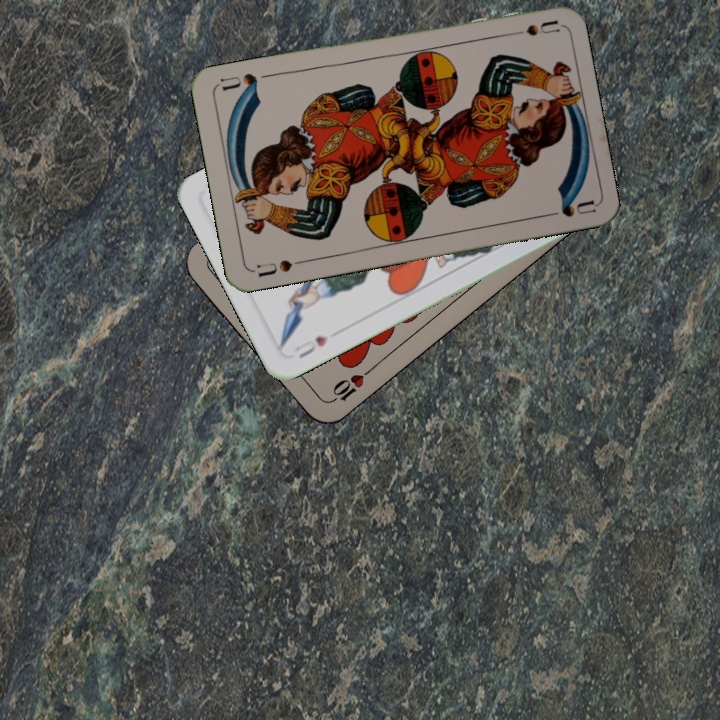H10: (324, 364, 374, 406)
HU: (290, 331, 332, 361)
SU: (501, 15, 561, 39), (254, 255, 308, 280)
